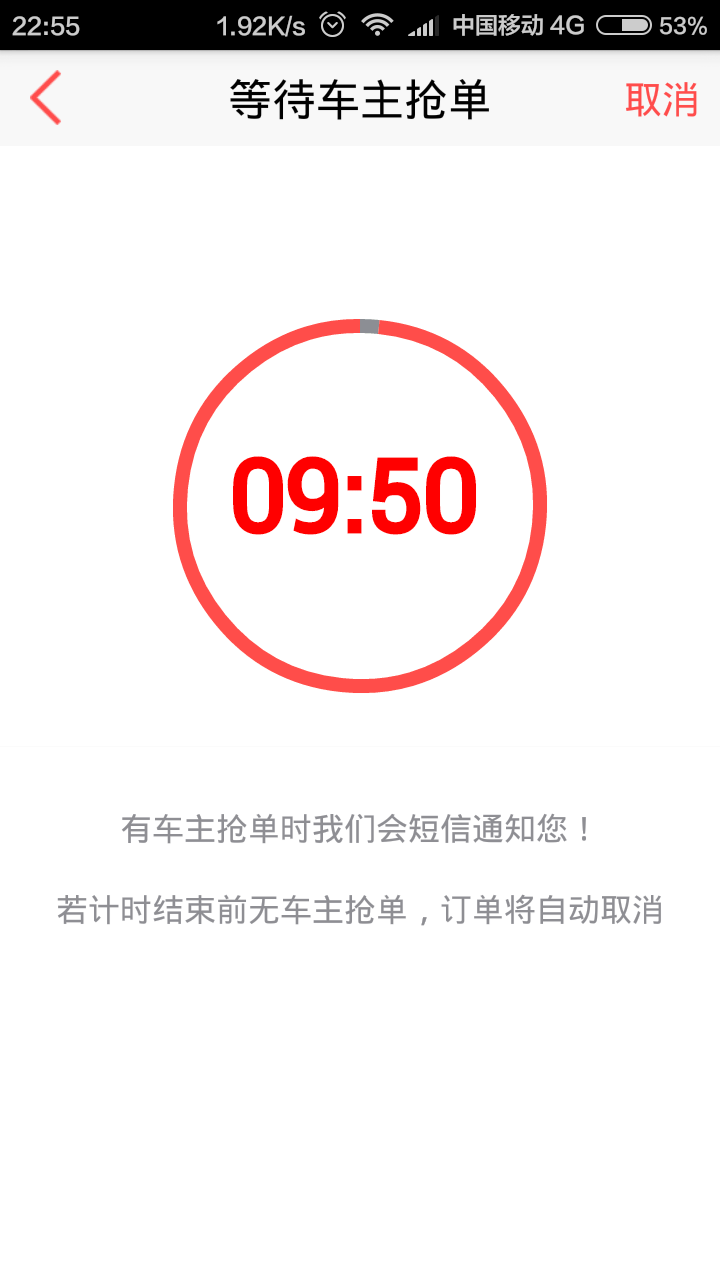button: (617, 71, 708, 130)
imgbutton: (12, 64, 100, 140)
imgview: (156, 292, 570, 711)
textview: (29, 788, 693, 950)
